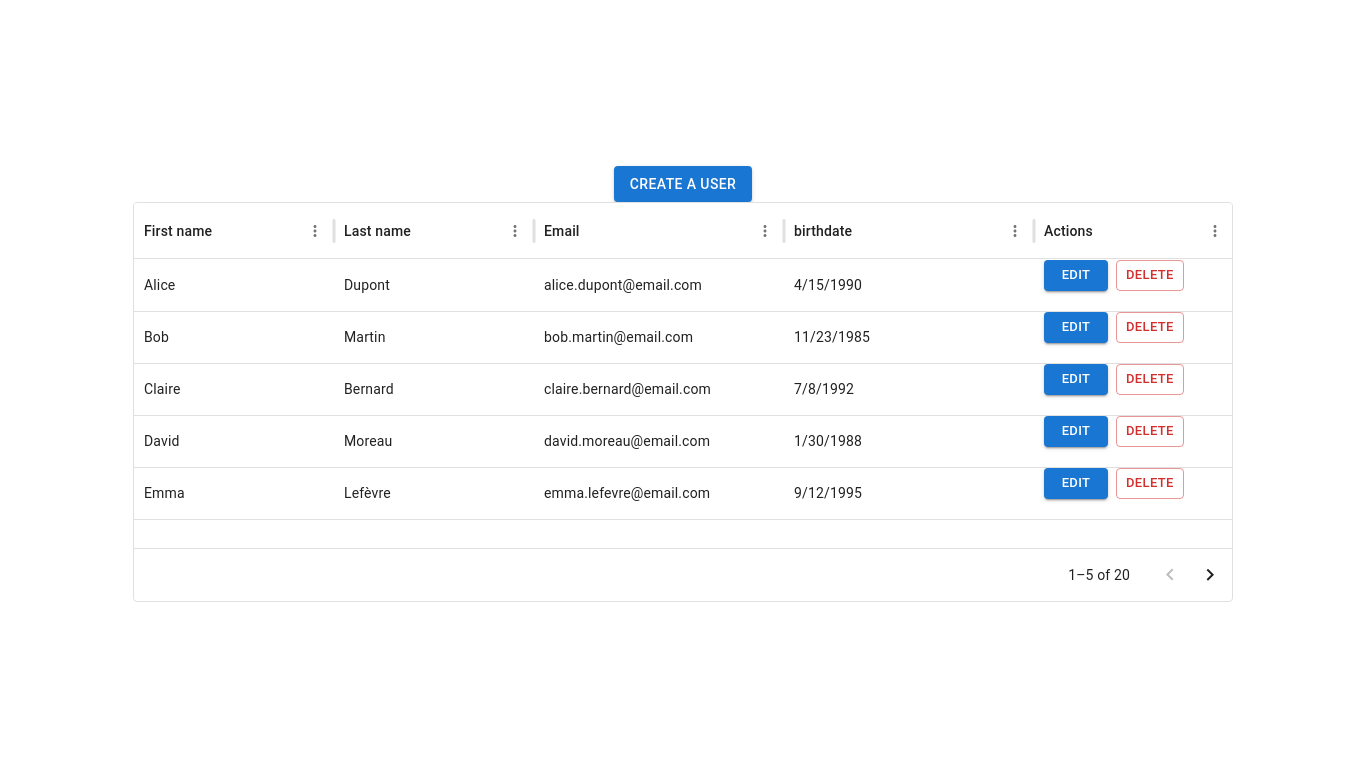
user page › should delete user when clicking on delete button
Step 1. Click the button "Delete" in the row of "alice.dupont@email.com" → (1150, 276), box [1116,260,1184,291]
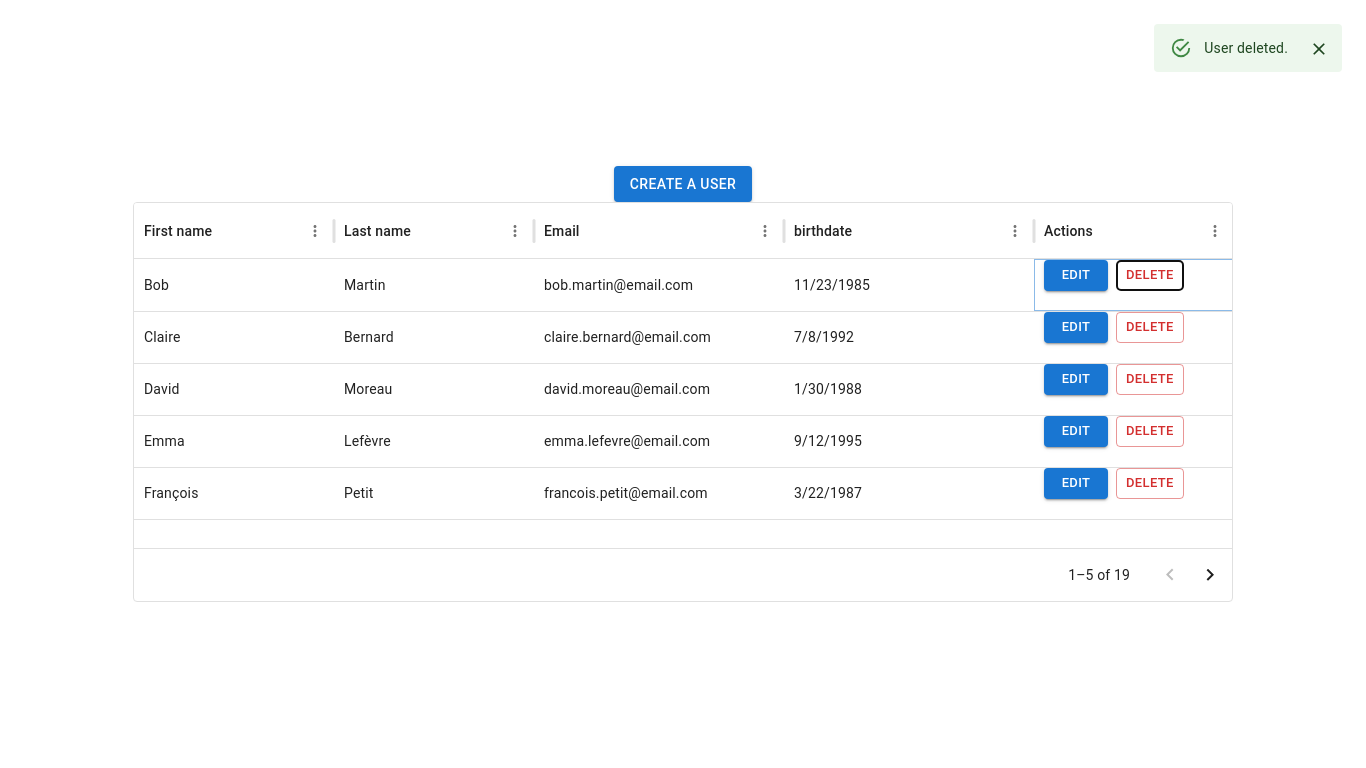
expect the text "bob.martin@email.com" is shown: met, box [544,277,693,293]
expect the text "claire.bernard@email.com" is shown: met, box [534,311,784,363]
expect the text "david.moreau@email.com" is shown: met, box [534,363,784,415]
